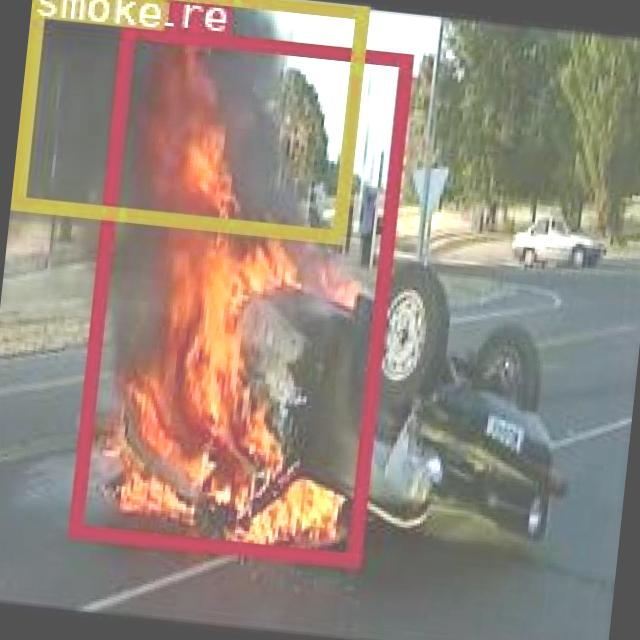fire: (67, 22, 410, 564)
smoke: (10, 0, 364, 241)
